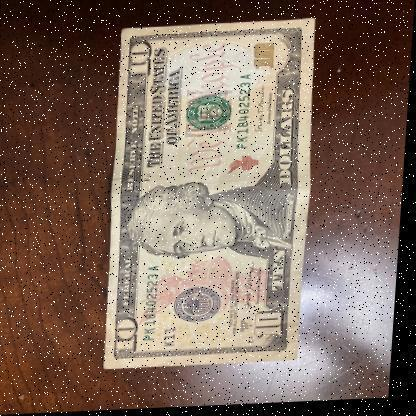ten-front: (104, 21, 321, 370)
